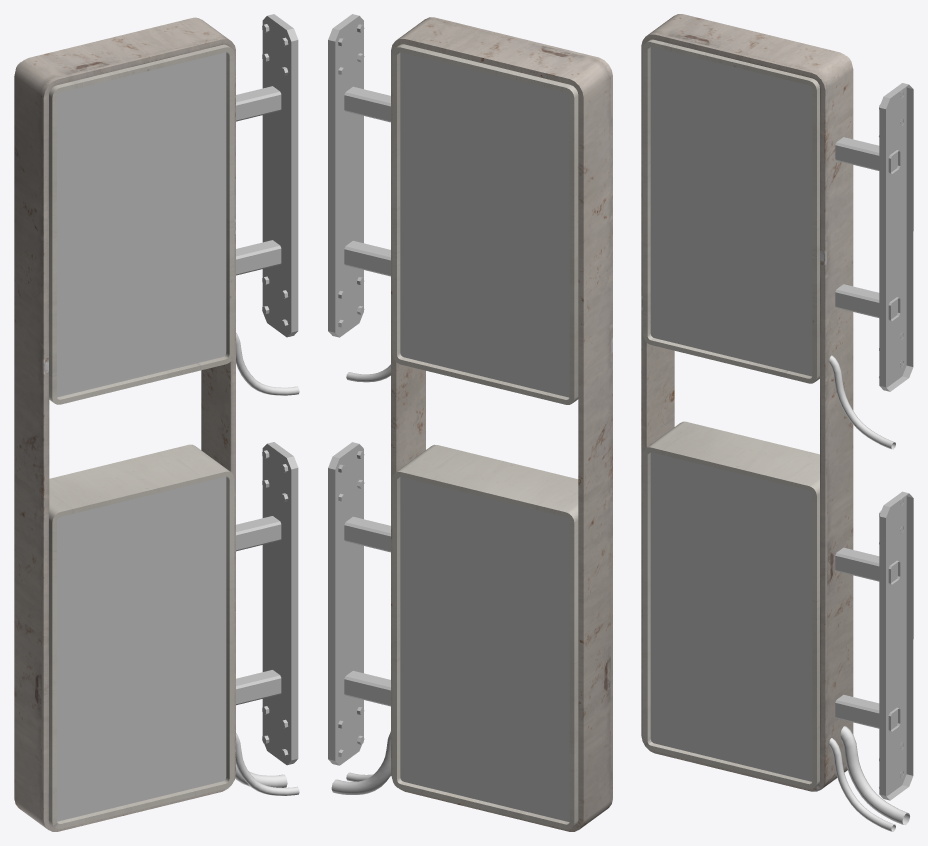
Rendered from KB3D_CBP_Billboard_C.fbx.
3 renders of one model, left to right at view 1: azimuth 30°, elevation 25°; view 2: azimuth 150°, elevation 25°; view 3: azimuth 330°, elevation 25°, orthographic. The views are drawn at different scales.
Visible parts, largest first — view 1: KB3D_CBP_Billboard_C_Main; view 2: KB3D_CBP_Billboard_C_Main; view 3: KB3D_CBP_Billboard_C_Main.
Boxes of the visible parts, x1,y1,x2,y2 form: KB3D_CBP_Billboard_C_Main: (14,14,299,831); KB3D_CBP_Billboard_C_Main: (328,14,612,831); KB3D_CBP_Billboard_C_Main: (641,14,913,831).
Size of the model in its own units: 124 by 357 by 30.59.
